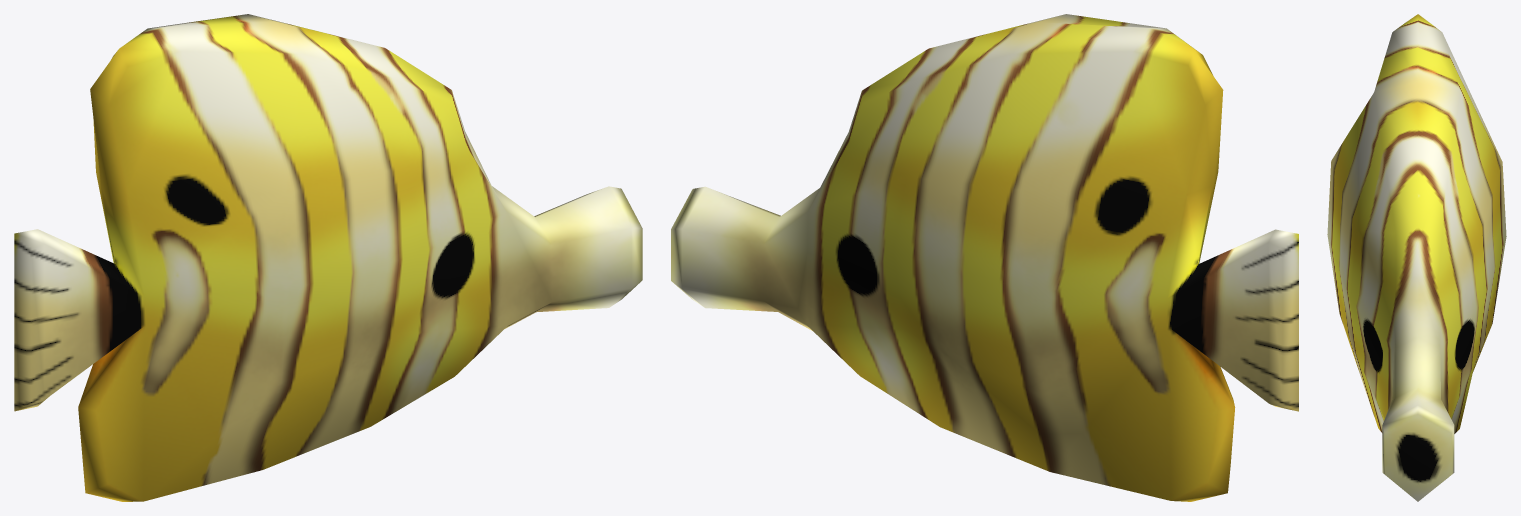
The model's file is Mode_PoissonTrompette.fbx.
3 views of the same model, side by side, from view 1: azimuth 30°, elevation 25°; view 2: azimuth 150°, elevation 25°; view 3: azimuth 270°, elevation 25° (orthographic). The views are drawn at different scales.
Parts seen in each view (by area): view 1: PoissonTrompette; view 2: PoissonTrompette; view 3: PoissonTrompette.
Boxes of the visible parts, left/top/right/bottom form: PoissonTrompette: left=14, top=14, right=642, bottom=501; PoissonTrompette: left=671, top=14, right=1298, bottom=501; PoissonTrompette: left=1327, top=14, right=1506, bottom=501.
Size of the model in its own units: 15.15 by 11.07 by 4.91.
